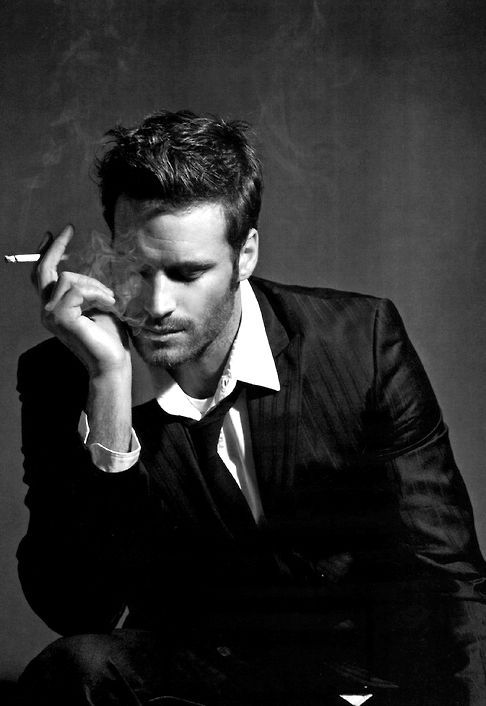cigarette: (7, 245, 85, 269)
